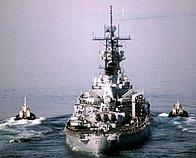MIL_Ship: (64, 16, 153, 158)
